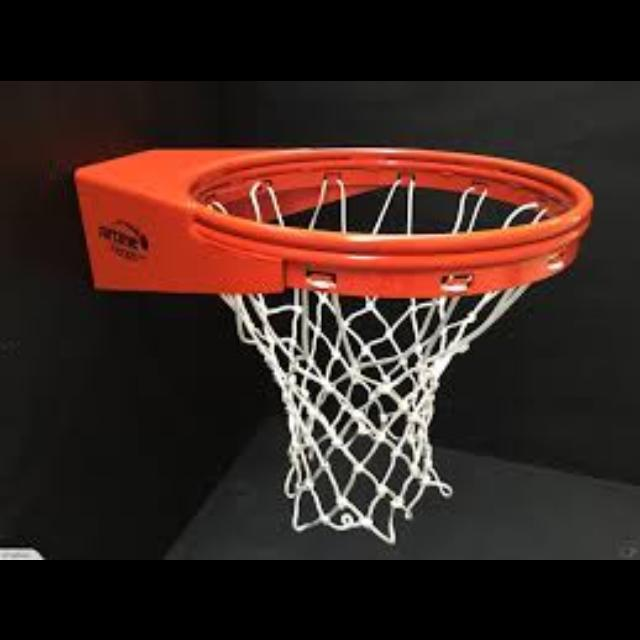rim: (192, 146, 592, 534)
